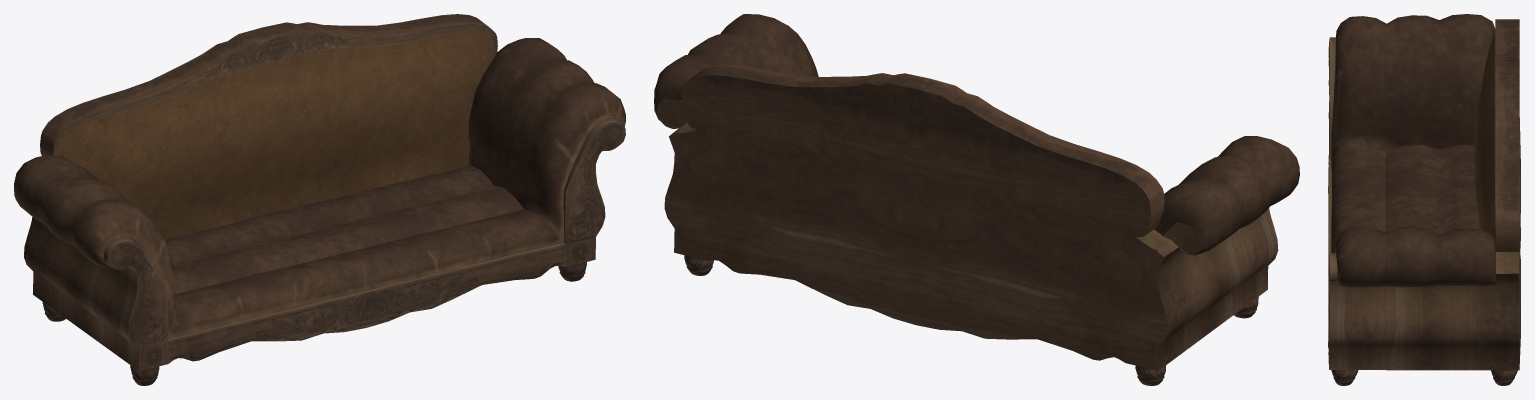
The model's file is sofa_03_bare.fbx.
3 views of the same model, side by side, from view 1: azimuth 30°, elevation 25°; view 2: azimuth 150°, elevation 25°; view 3: azimuth 270°, elevation 25° (orthographic). The views are drawn at different scales.
Parts seen in each view (by area): view 1: sofa_03_bare; view 2: sofa_03_bare; view 3: sofa_03_bare.
Boxes of the visible parts, box(x1,y1,x2,y2) form: sofa_03_bare: box(14, 14, 625, 385); sofa_03_bare: box(654, 14, 1299, 385); sofa_03_bare: box(1328, 14, 1520, 385).
Size of the model in its own units: 108 by 36.42 by 44.03.
